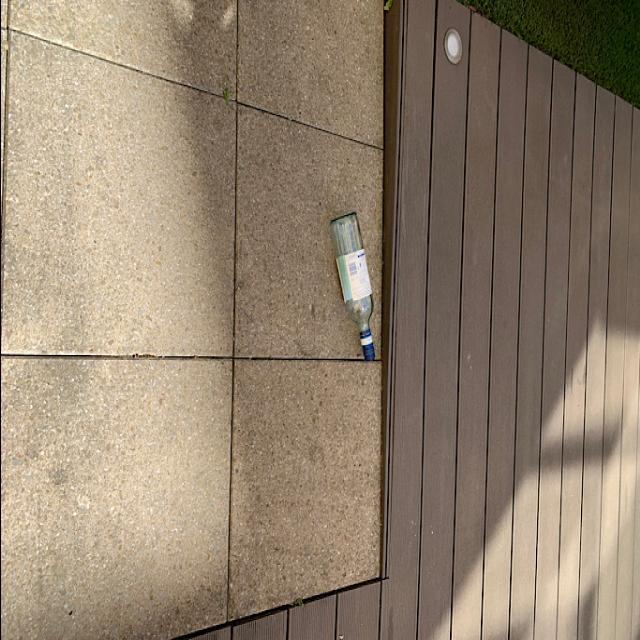Glass Bottle: (322, 206, 382, 370)
